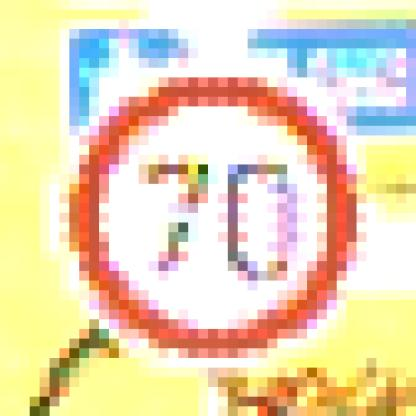Speed Limit 70: (67, 74, 359, 350)
